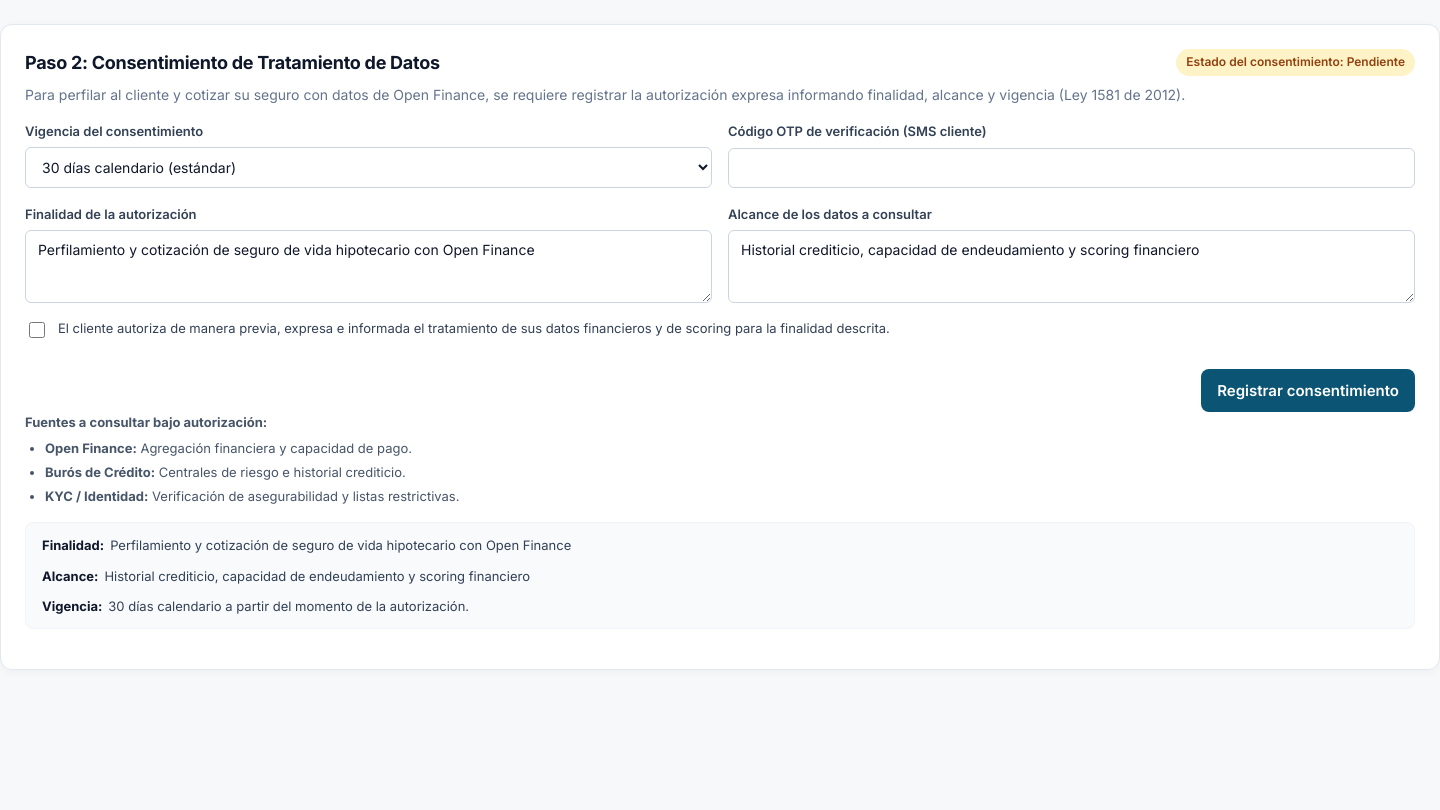
Scenario: ConsentStepComponent (HU-WEB-01) › registra el consentimiento exitosamente y muestra el hash SHA-256
Click the button with class "submit-button".
click(1308, 390)  # box x1=1201 y1=369 x2=1415 y2=412
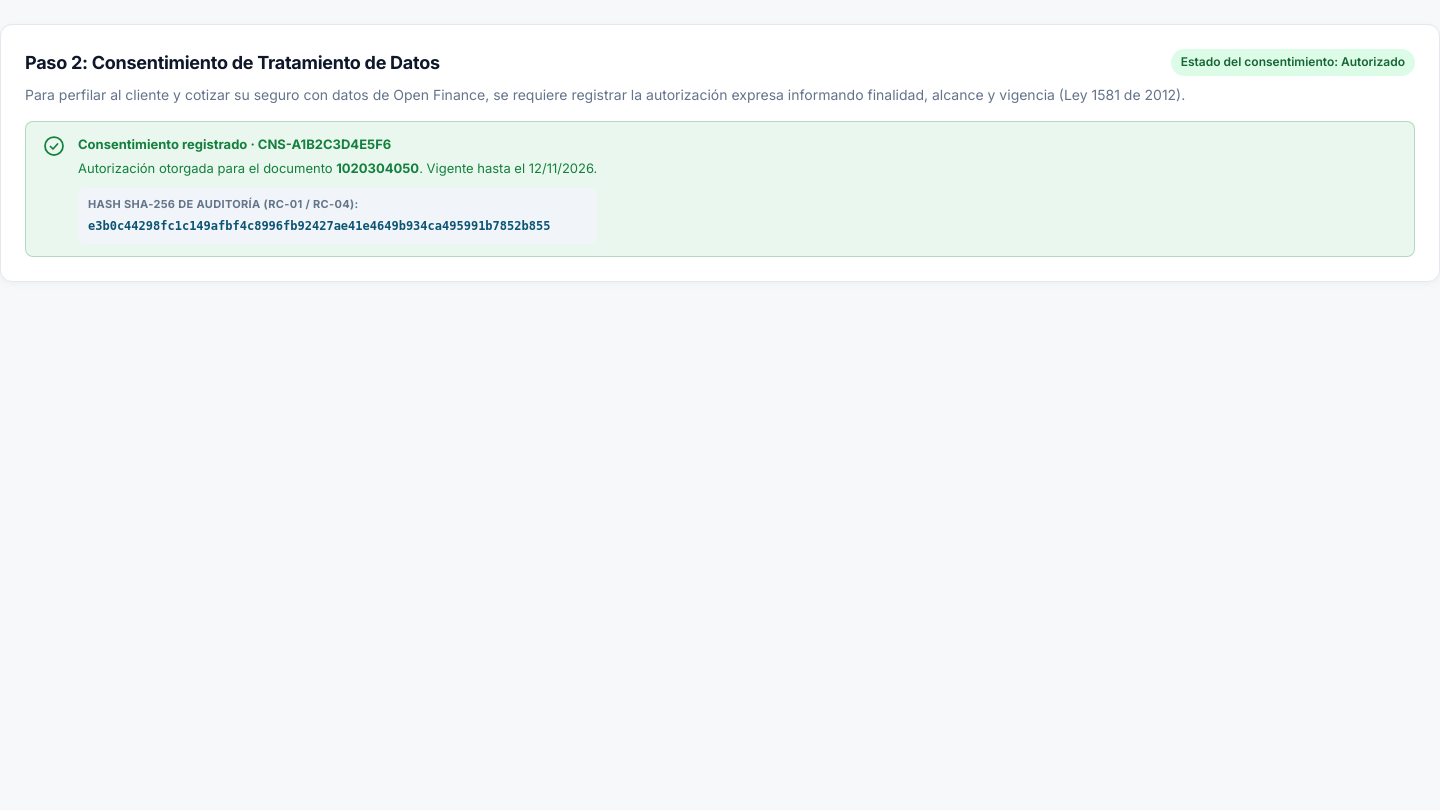
Result: the text with test id "consent-hash" reads "e3b0c44298fc1c149afbf4c8996fb92427ae41e4649b934ca495991b7852b855" at x1=88 y1=219 x2=550 y2=233
Result: the text "Consentimiento registrado" is shown at x1=78 y1=136 x2=391 y2=152
